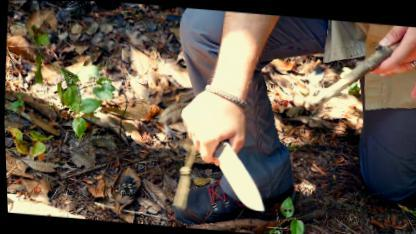knife: (176, 119, 273, 216)
